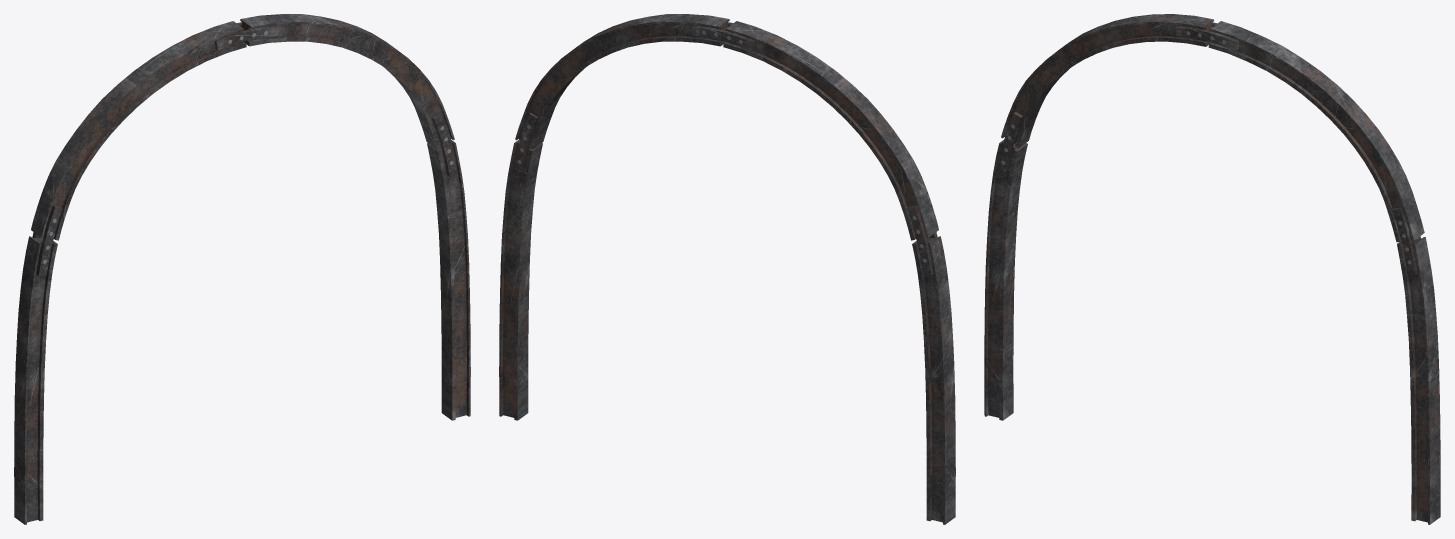
Rendered from SteelSupportBB.glb.
3 views of the same model, side by side, from view 1: azimuth 30°, elevation 25°; view 2: azimuth 150°, elevation 25°; view 3: azimuth 330°, elevation 25° (orthographic).
Parts seen in each view (by area): view 1: SteelSupportBB; view 2: SteelSupportBB; view 3: SteelSupportBB.
Boxes of the visible parts, x1,y1,x2,y2 form: SteelSupportBB: (14, 14, 470, 524); SteelSupportBB: (499, 14, 955, 524); SteelSupportBB: (984, 14, 1440, 524).
Bounding box in the file's own units: 2.71 × 2.57 × 0.1246.
Materials: 1 (1 with a texture image).
